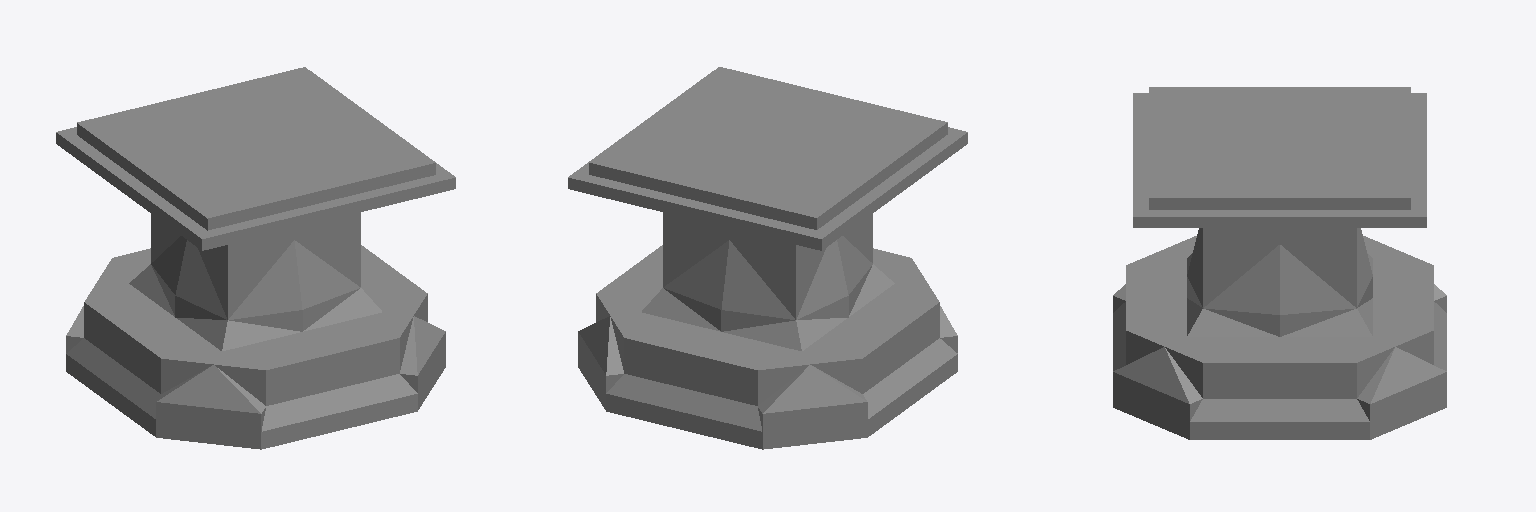
File: crown_podest.obj
3 renders of one model, left to right at view 1: azimuth 30°, elevation 25°; view 2: azimuth 150°, elevation 25°; view 3: azimuth 270°, elevation 25°, orthographic.
Parts seen in each view (by area): view 1: stone, wool, wood; view 2: stone, wool, wood; view 3: stone, wool, wood.
Part boxes in pixels (left/top/right/bottom): stone: left=66, top=212, right=445, bottom=413; wool: left=77, top=67, right=435, bottom=230; wood: left=56, top=71, right=455, bottom=449; stone: left=578, top=212, right=957, bottom=413; wool: left=589, top=67, right=947, bottom=229; wood: left=568, top=71, right=967, bottom=449; stone: left=1113, top=228, right=1446, bottom=403; wool: left=1149, top=87, right=1410, bottom=209; wood: left=1113, top=93, right=1446, bottom=439.
Bounding box in the file's own units: 0.9992 × 0.748 × 0.9992.